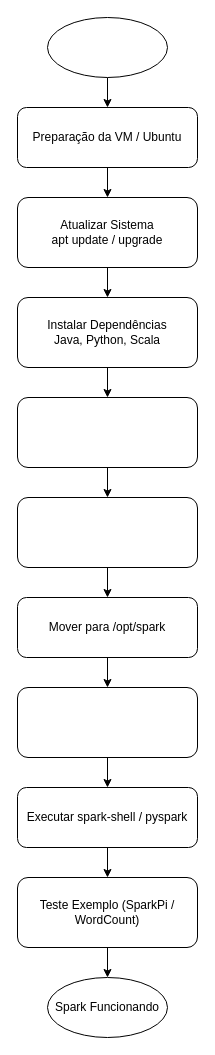
Some shapes in this 215 by 1055 pixel diagram are drawn without their labels. The centre of each missing label's shape, as x and y in pixels:
Configurar Variáveis SPARK_HOME / PATH: point 107,722
Download Apache Spark (wget): point 107,432
Extrair Arquivo tar -xvzf: point 107,532
Início: point 107,47
